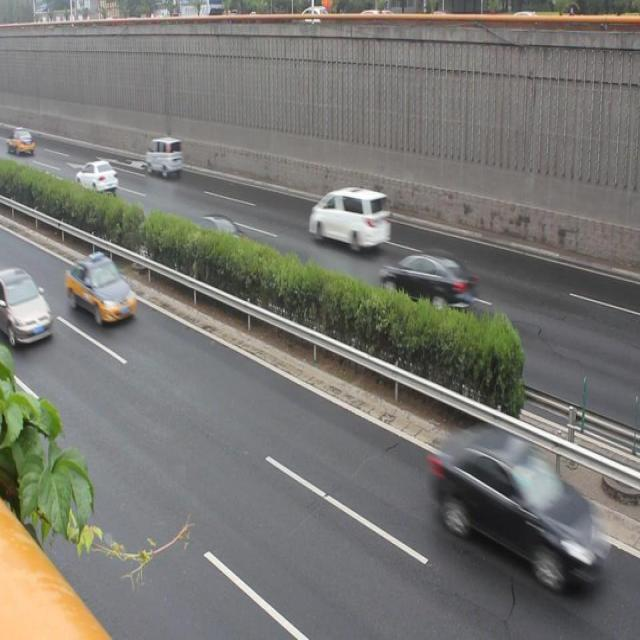car: (424, 418, 612, 600), (381, 244, 473, 321), (67, 252, 139, 328), (1, 265, 52, 352), (189, 207, 248, 264)
truck: (306, 179, 388, 252)
